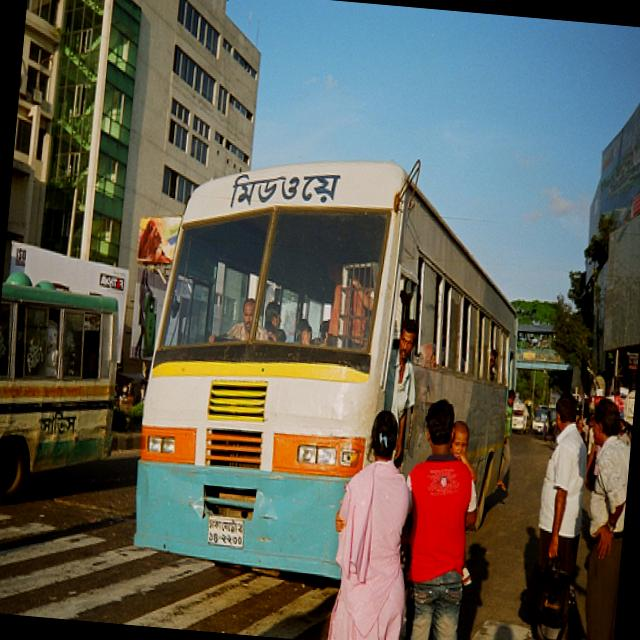Vehicle: (129, 136, 536, 596), (0, 278, 125, 515)
